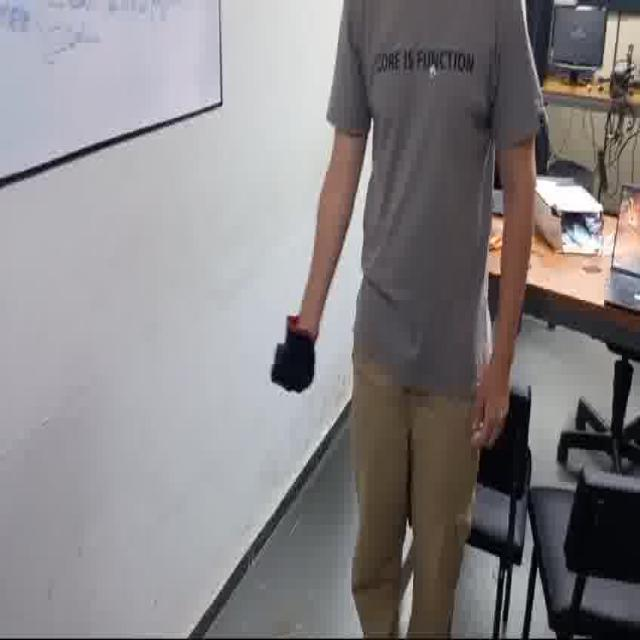Gloves: (270, 313, 317, 394)
